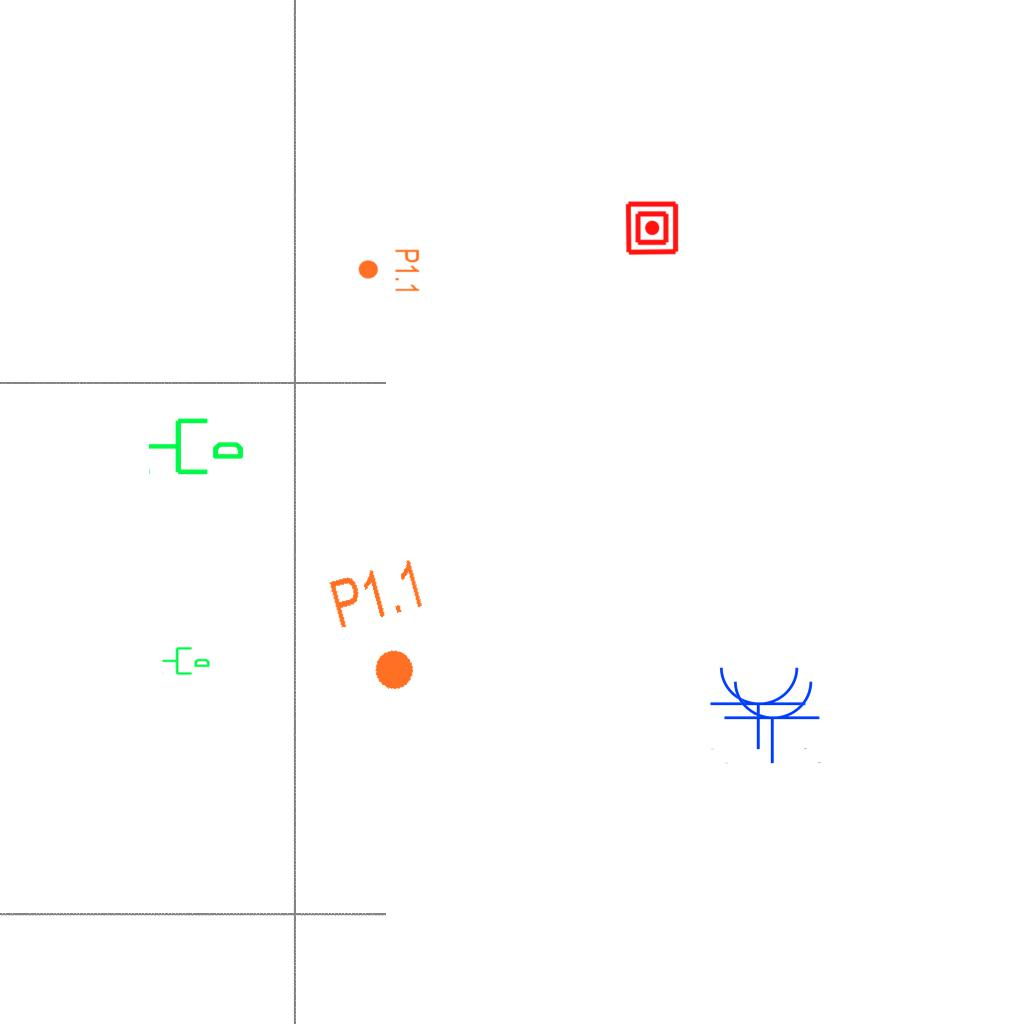Datenanschluss_einfach: (146, 410, 246, 479), (161, 643, 211, 677)
Downlight_LED_Einbauleuchten_Flur: (325, 555, 448, 703), (357, 248, 421, 294)
NAM-Nichtautomatischer_Melder: (624, 200, 680, 256)
Schukosteckdose_einfach: (709, 663, 809, 750), (723, 677, 823, 764)
